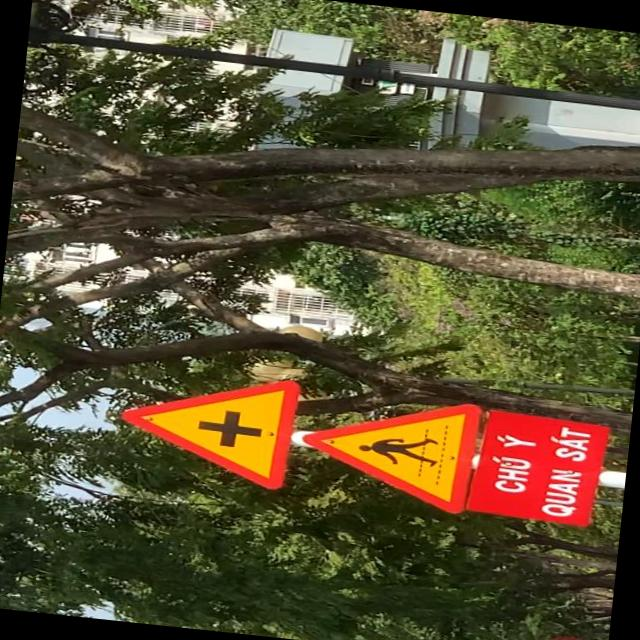W-205a: (111, 360, 302, 494)
W-224: (292, 387, 483, 517)
